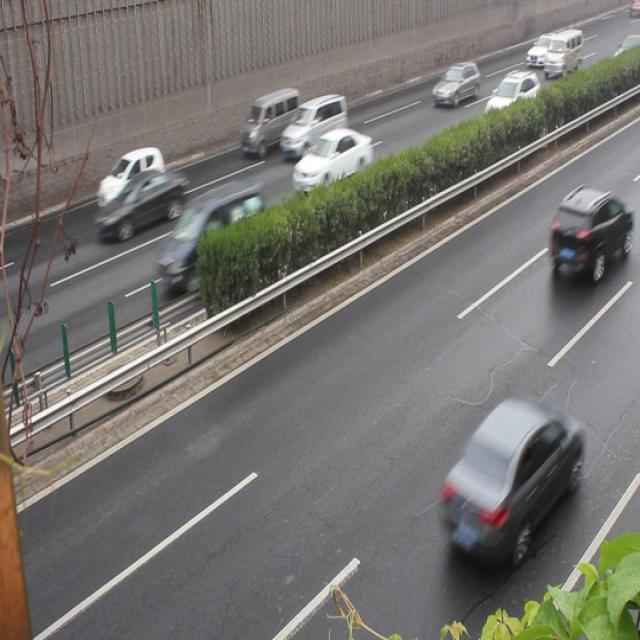car: (440, 392, 582, 564), (548, 184, 632, 276), (97, 168, 187, 240), (292, 129, 372, 197), (96, 147, 167, 211), (483, 68, 539, 124), (432, 63, 478, 109), (524, 31, 556, 67)
truck: (160, 180, 263, 292), (281, 92, 348, 159), (241, 87, 300, 157), (543, 31, 582, 76)
